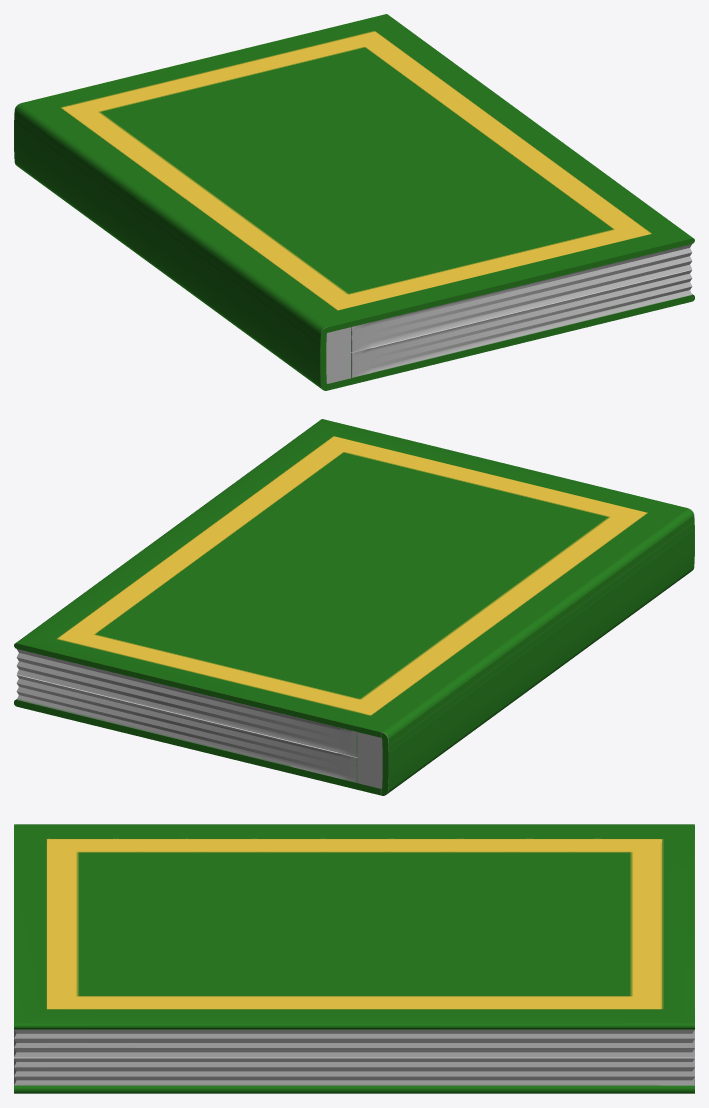
3 renders of one model, top to bottom at view 1: azimuth 30°, elevation 25°; view 2: azimuth 150°, elevation 25°; view 3: azimuth 270°, elevation 25°, orthographic. The views are drawn at different scales.
Visible parts, largest first — view 1: 绿书; view 2: 绿书; view 3: 绿书.
Part boxes in pixels (<box>): 绿书: <box>14,14,694,390</box>; 绿书: <box>14,419,694,795</box>; 绿书: <box>14,824,694,1093</box>.
Size of the model in its own units: 142 by 22.97 by 202.
